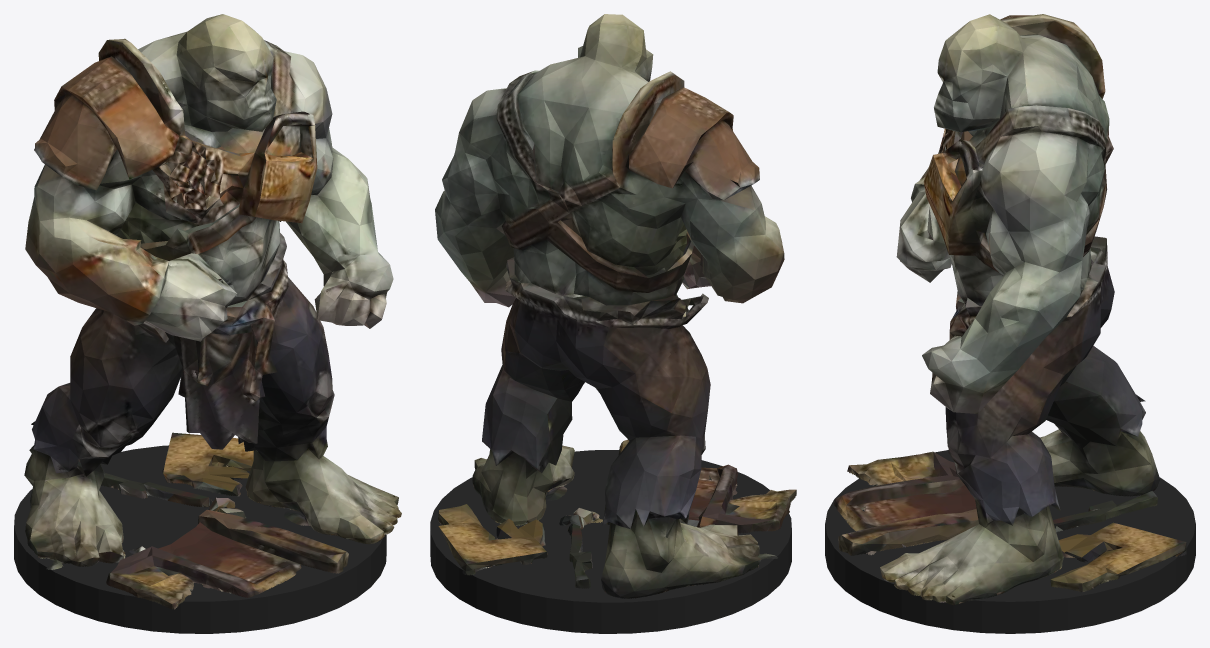
File: super-mutant@long.glb
The picture shows the model from 3 angles, left to right: view 1: azimuth 30°, elevation 25°; view 2: azimuth 150°, elevation 25°; view 3: azimuth 270°, elevation 25°; orthographic projection. The views are drawn at different scales.
Parts seen in each view (by area): view 1: figure, base; view 2: figure, base; view 3: figure, base.
Boxes of the visible parts, bbox=[...] form: figure: bbox=[24, 14, 401, 609]; base: bbox=[14, 445, 386, 633]; figure: bbox=[435, 14, 796, 598]; base: bbox=[430, 450, 791, 633]; figure: bbox=[834, 14, 1186, 605]; base: bbox=[825, 450, 1195, 633].
Size of the model in its own units: 1.32 by 2.02 by 1.26.
Materials: 2 (1 with a texture image).
